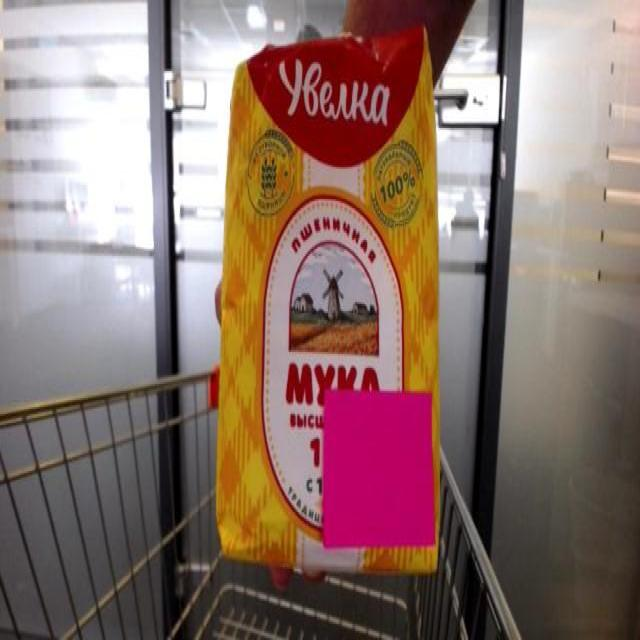Almond Milk: (216, 23, 447, 583)
